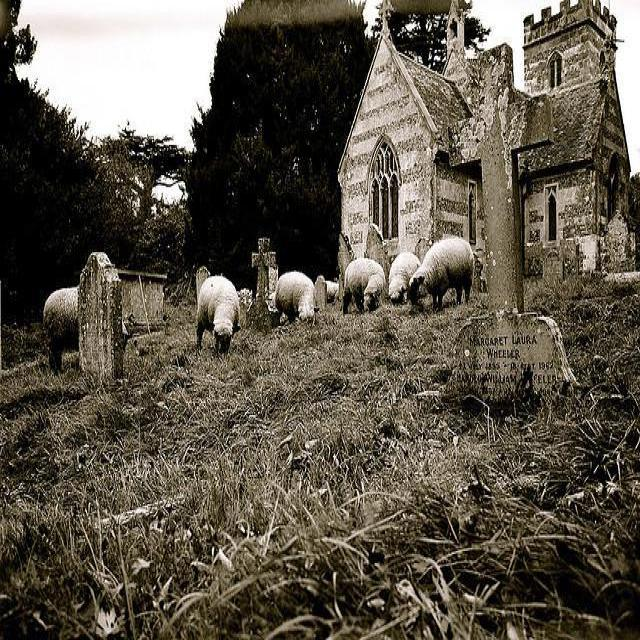Sheep: (409, 240, 473, 314), (40, 284, 83, 377), (194, 276, 239, 355), (275, 272, 320, 328), (343, 258, 386, 316), (388, 252, 421, 306)
